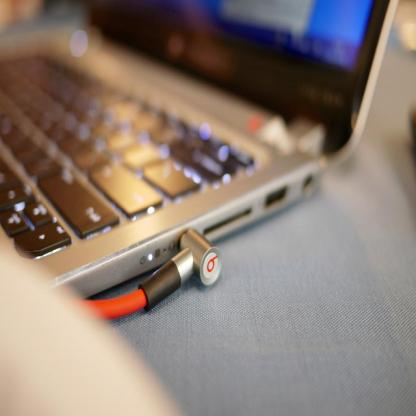board: (1, 2, 351, 325)
